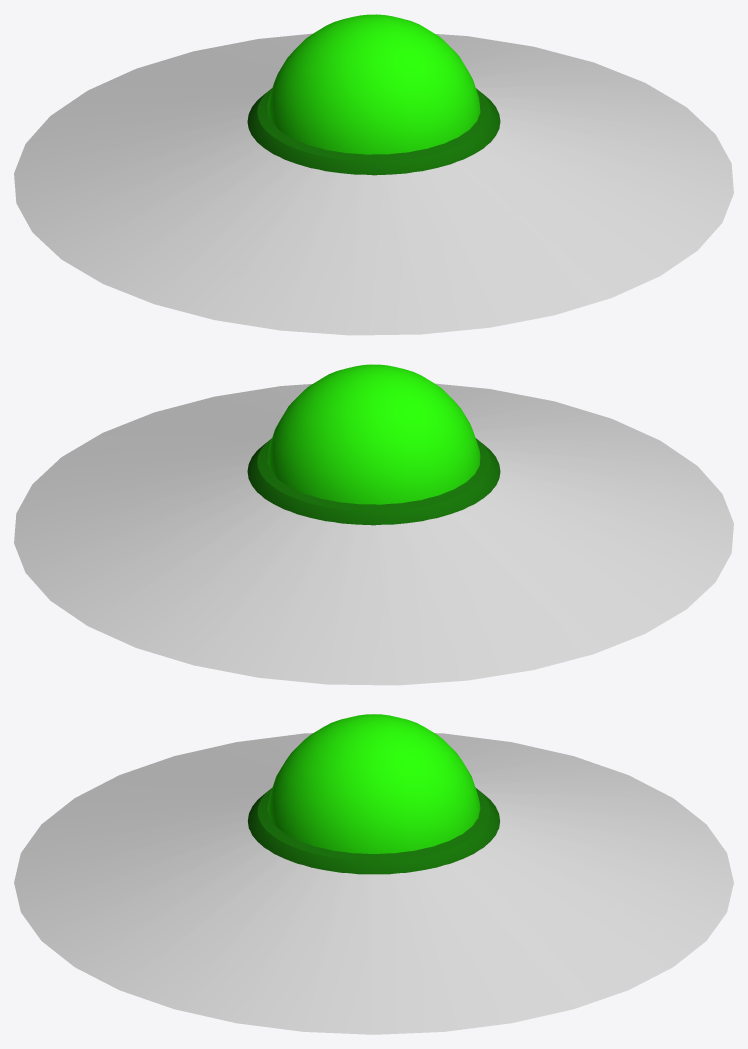
The model's file is UFO.fbx.
The picture shows the model from 3 angles, top to bottom: view 1: azimuth 30°, elevation 25°; view 2: azimuth 150°, elevation 25°; view 3: azimuth 270°, elevation 25°; orthographic projection.
Parts seen in each view (by area): view 1: Cylinder, Sphere, Torus; view 2: Cylinder, Sphere, Torus; view 3: Cylinder, Sphere, Torus.
Boxes of the visible parts, box(x1,y1,x2,y2) form: Cylinder: box(14, 33, 733, 335); Sphere: box(267, 14, 480, 154); Torus: box(247, 88, 500, 175); Cylinder: box(14, 383, 733, 685); Sphere: box(267, 364, 480, 504); Torus: box(247, 438, 500, 525); Cylinder: box(14, 733, 733, 1034); Sphere: box(267, 714, 480, 853); Torus: box(248, 788, 499, 874).
Bounding box in the file's own units: 835 × 323 × 835.
